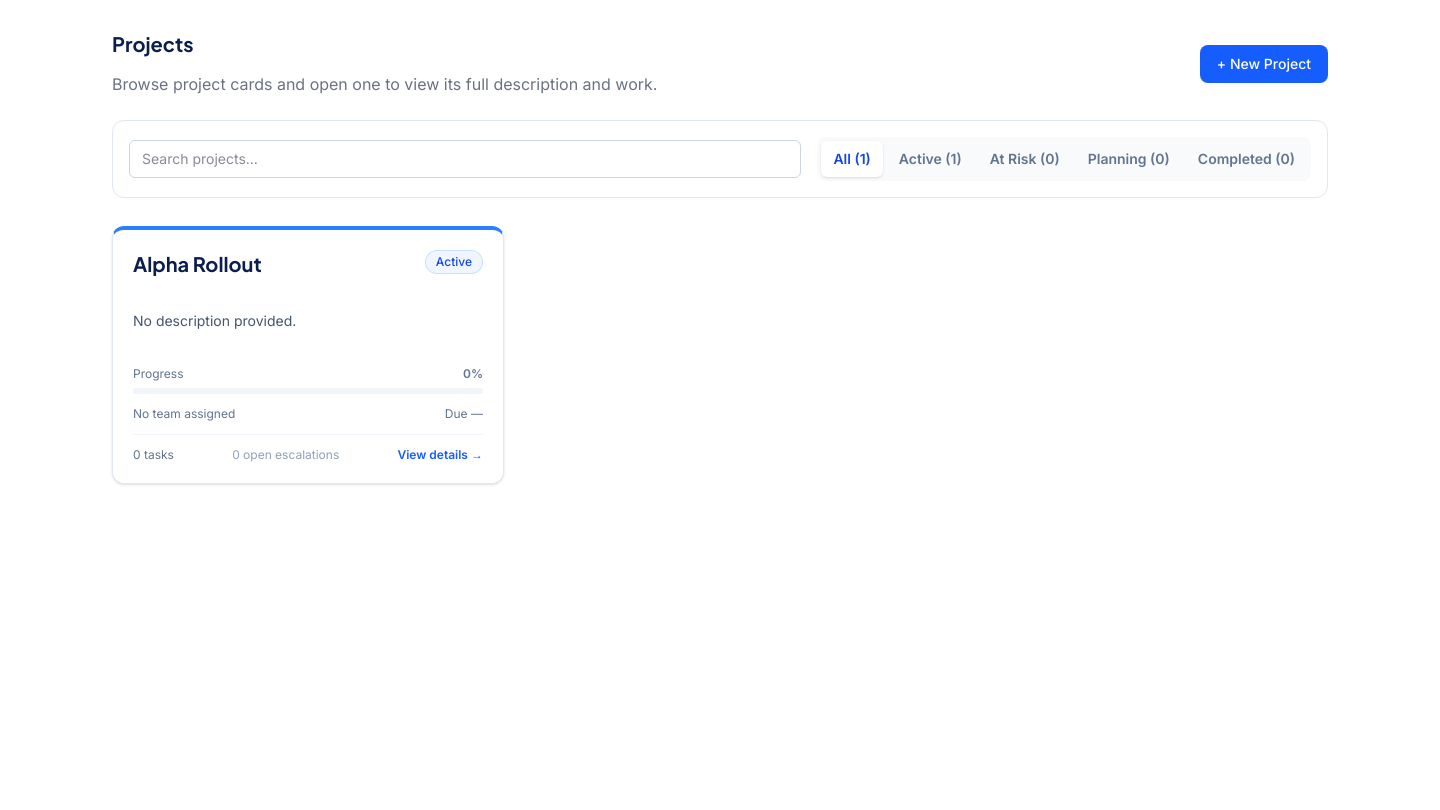
Test: PM Projects: create project, then start its workflow › reports a workflow failure apart from the project, and retry reuses the project id
Click the button "+ New Project" at (1264, 64), box [1200,45,1328,83]
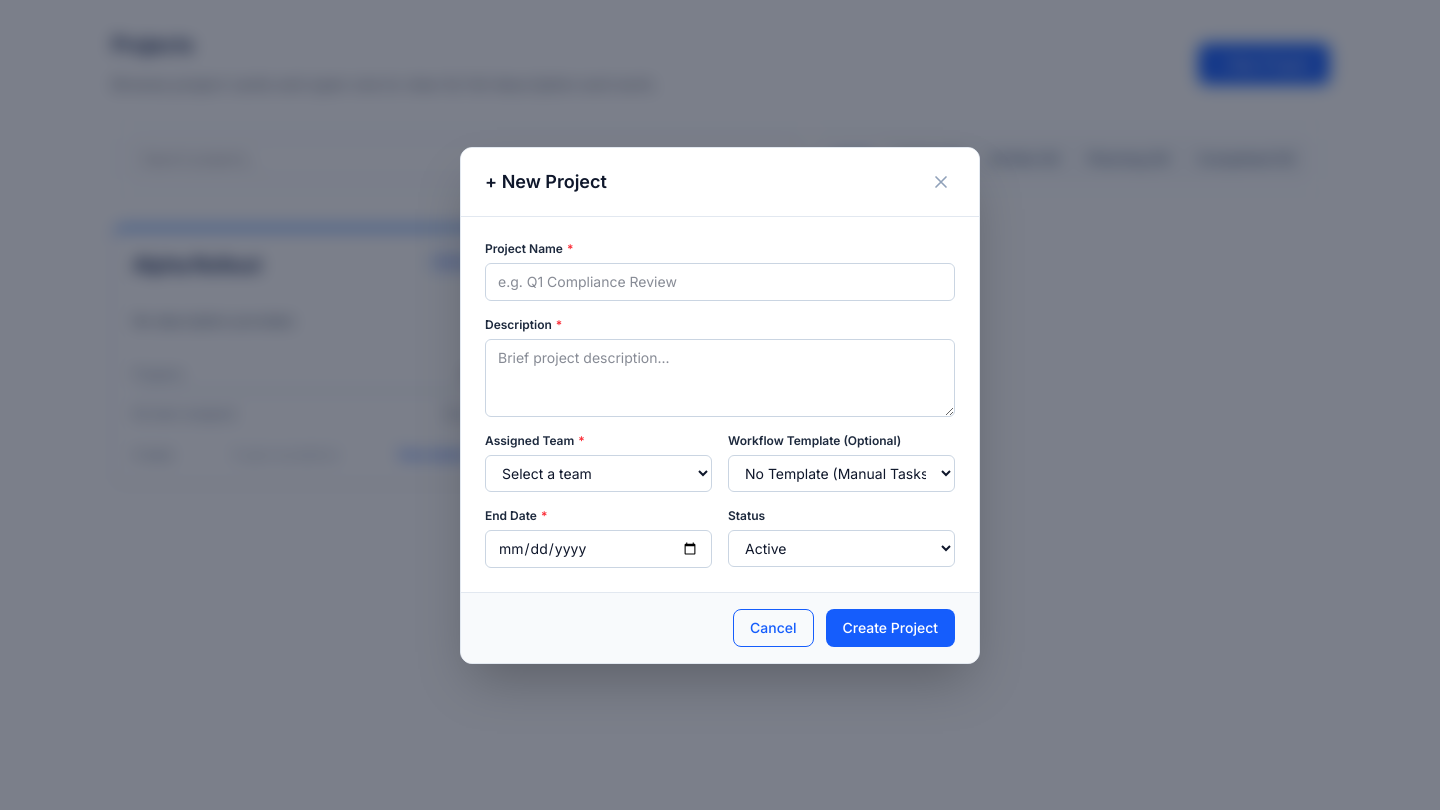
Type "Beta Launch" into the field with placeholder "e.g. Q1 Compliance Review" at (720, 282), box [485,262,955,300]
Type "Launch the beta to pilots" into the text box with placeholder "Brief project description..." at (720, 378), box [485,338,955,416]
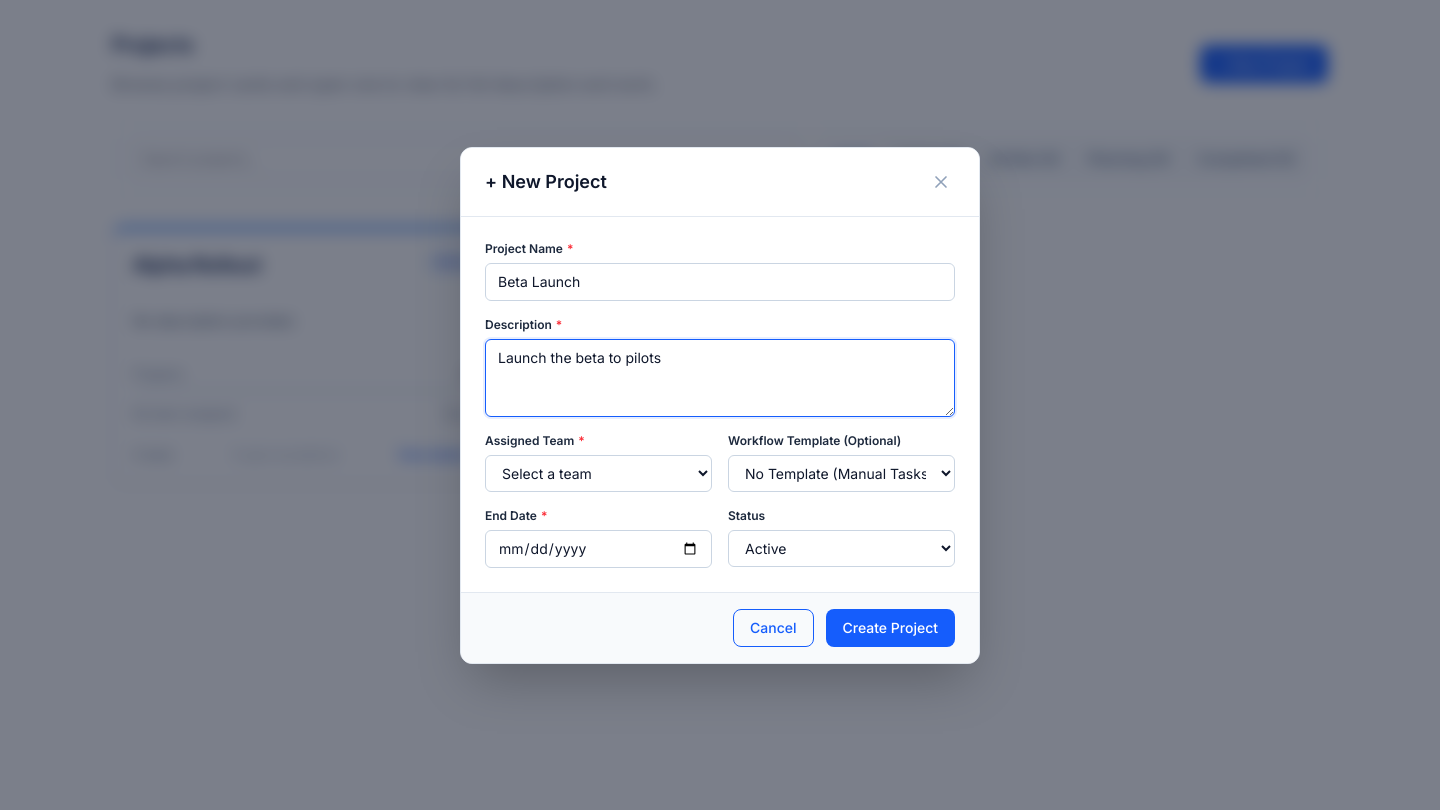
Select "Platform Squad" in the dropdown showing "Select a team" below "Assigned Team" at (598, 473), box [485,454,712,492]
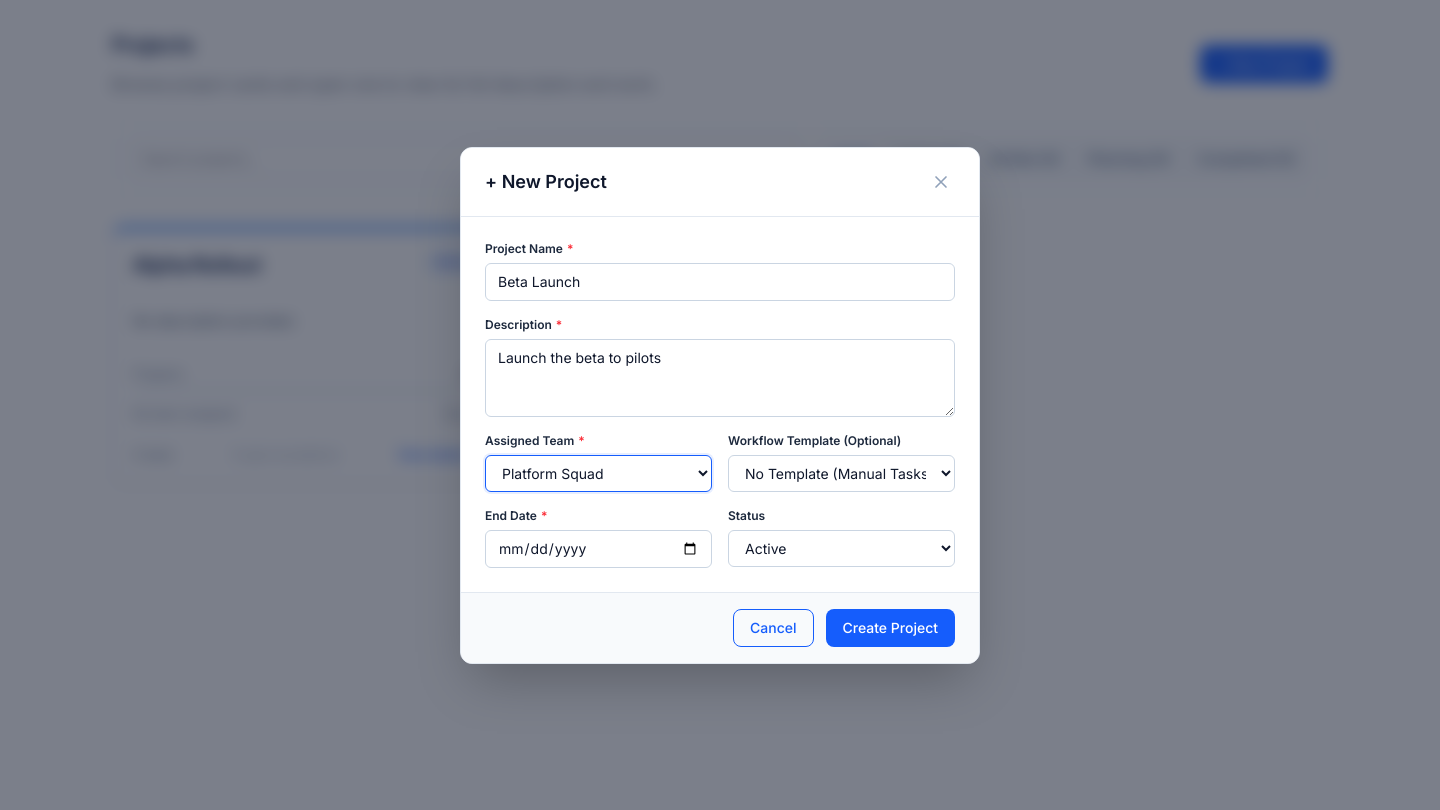
Select "Audit Flow" in the dropdown showing "No Template (Manual Tasks)" below "Workflow Template (Optional)" at (842, 473), box [728,454,955,492]
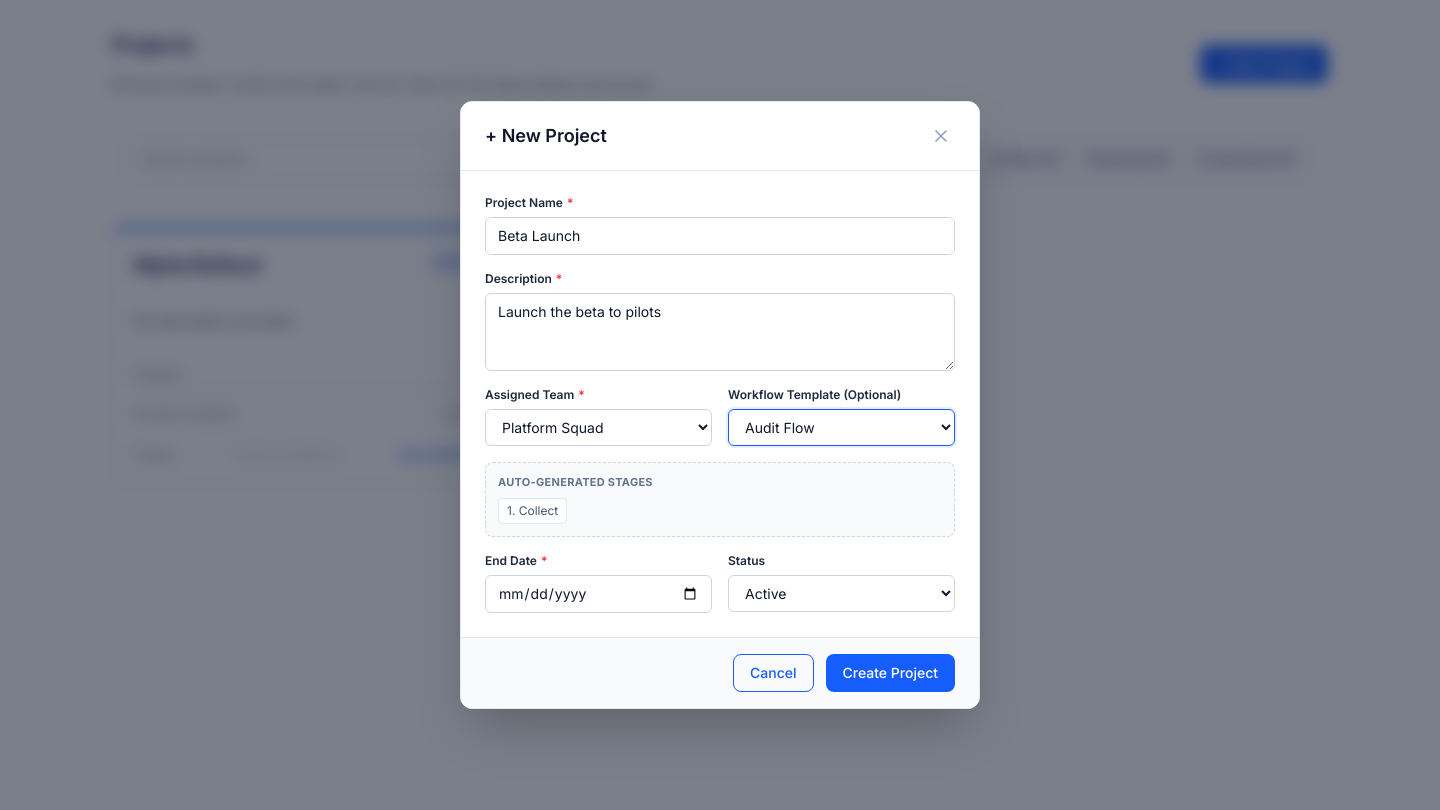
Type "2027-01-31" into the date field at (598, 594), box [485,575,712,613]
Click the button "Create Project" at (890, 673), box [826,654,955,692]
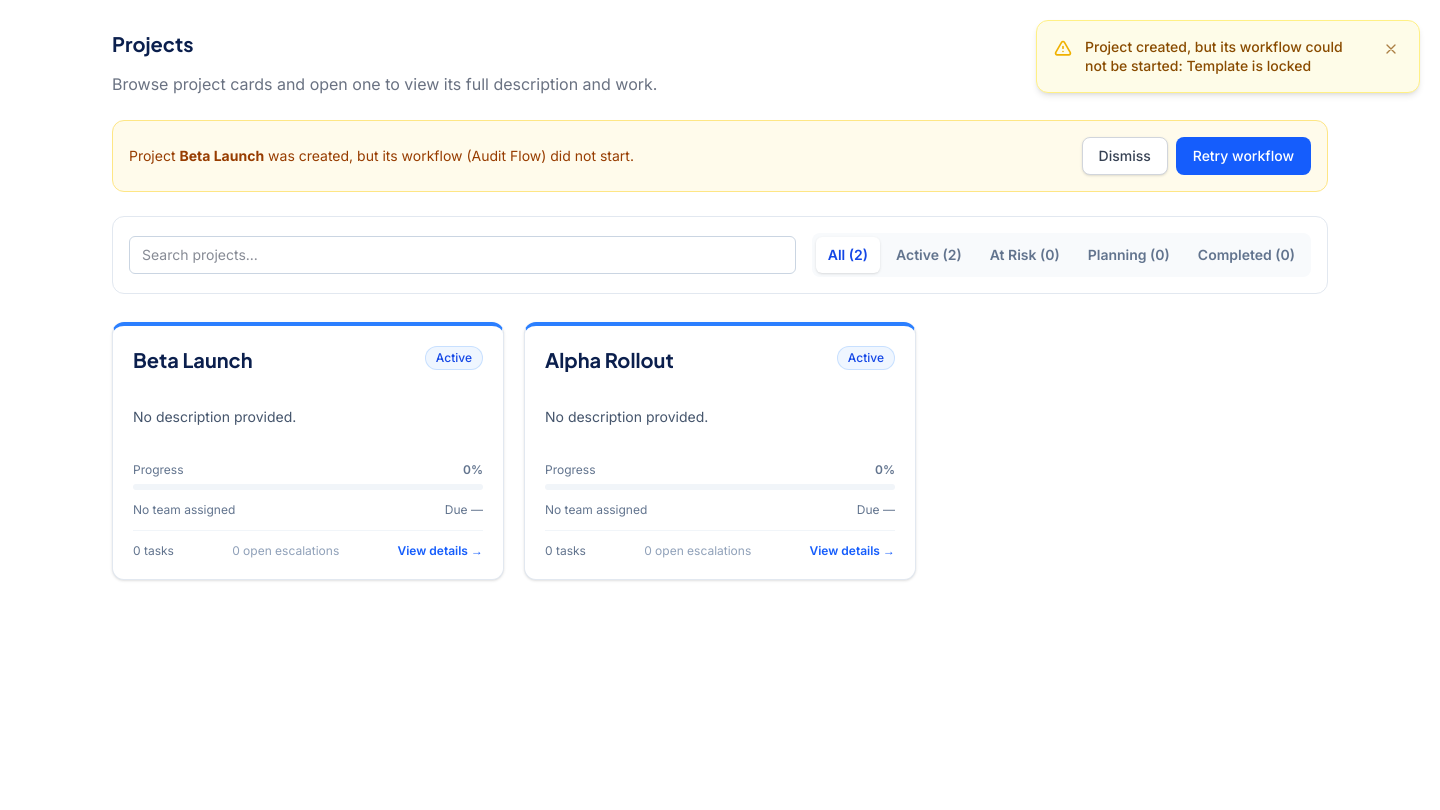
Expected: the text "Project created, but its workflow could not be started: Template is locked" is shown, [1085,37,1367,76]
Click the button "Retry workflow" at (1243, 156), box [1176,137,1311,175]
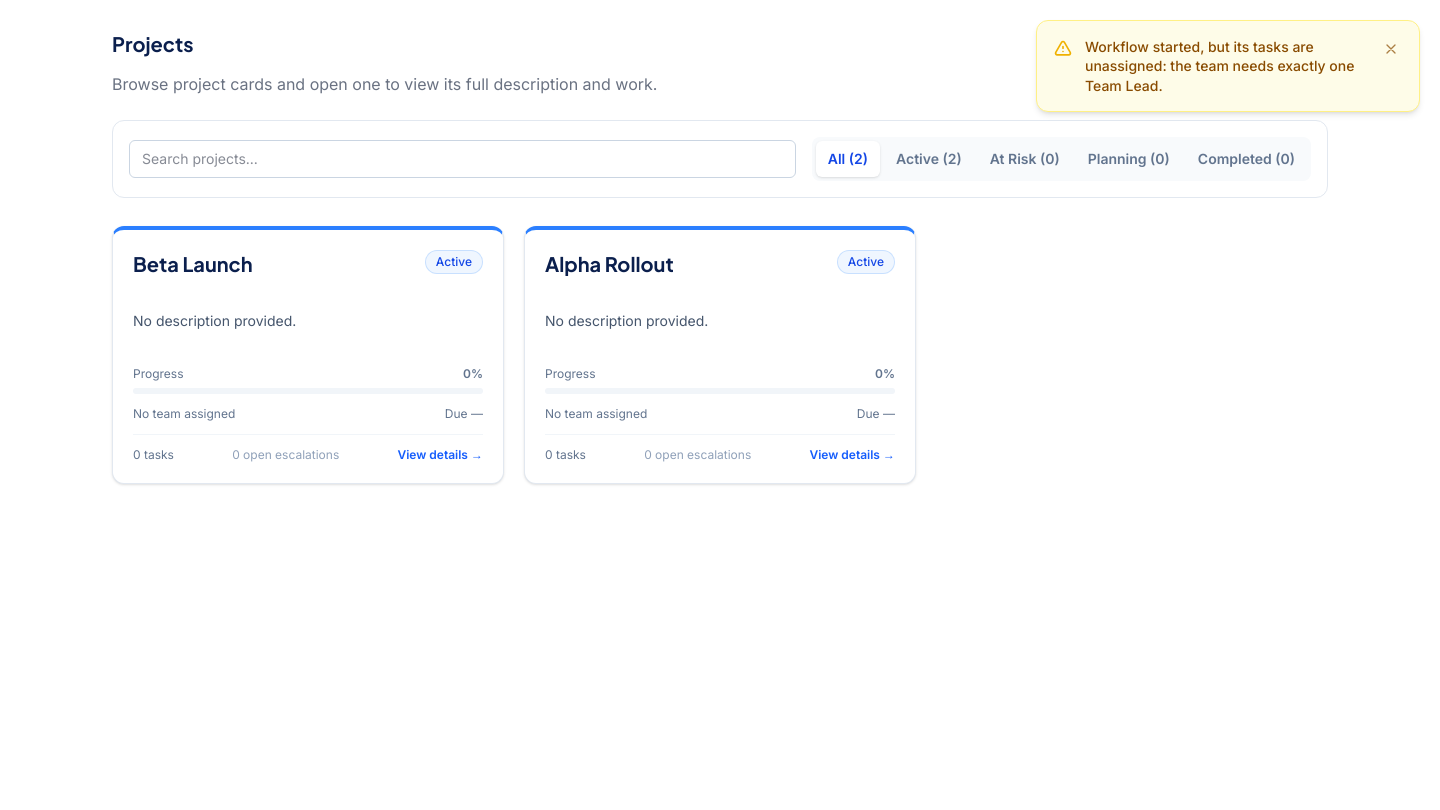
Expected: the button "Retry workflow" is gone
